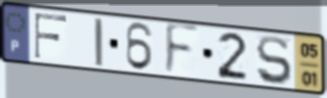2: (215, 30, 251, 83)
6: (124, 20, 154, 72)
F: (163, 21, 201, 78), (33, 11, 69, 61)
I: (92, 16, 105, 68)
S: (255, 34, 294, 87)
